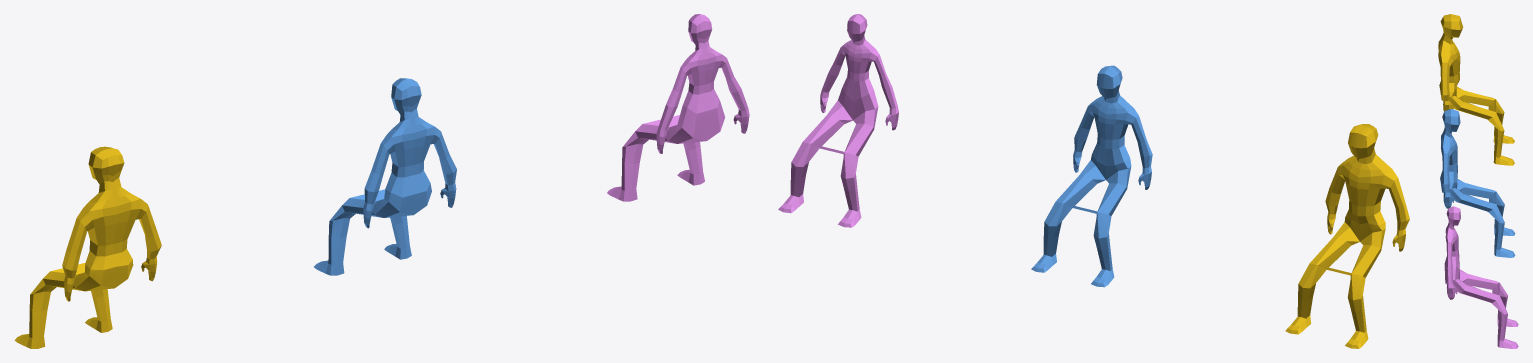
Rendered from row_1.glb.
3 views of the same model, side by side, from view 1: azimuth 30°, elevation 25°; view 2: azimuth 150°, elevation 25°; view 3: azimuth 270°, elevation 25° (orthographic). The views are drawn at different scales.
Parts seen in each view (by area): view 1: Student, Student.001, Student.002; view 2: Student, Student.001, Student.002; view 3: Student, Student.001, Student.002.
Boxes of the visible parts, x1,y1,x2,y2 form: Student: (14,146,161,348); Student.001: (314,78,456,275); Student.002: (607,14,749,201); Student: (1285,124,1409,348); Student.001: (1031,65,1152,287); Student.002: (778,14,898,227); Student: (1438,14,1514,165); Student.001: (1440,109,1515,257); Student.002: (1444,206,1518,348).
Bounding box in the file's own units: 4.62 × 1.4 × 0.7414.
